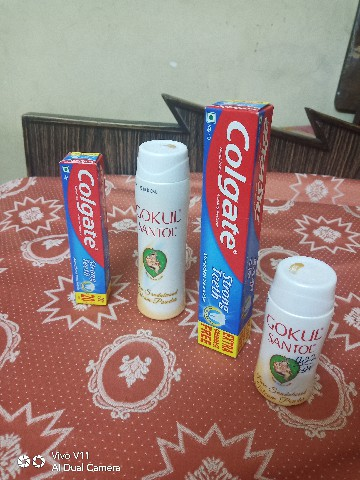colgatetoothpaste big: (195, 97, 275, 372)
colgatetoothpaste small: (48, 144, 119, 317)
gokulsantol big: (125, 135, 193, 334)
gokulsantol small: (256, 239, 339, 413)
